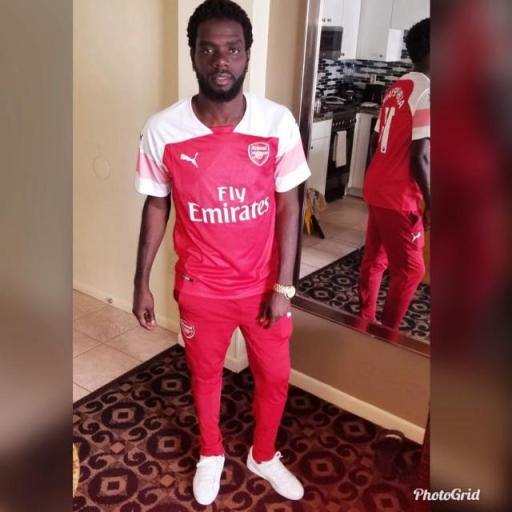Emirates: (187, 182, 270, 223)
